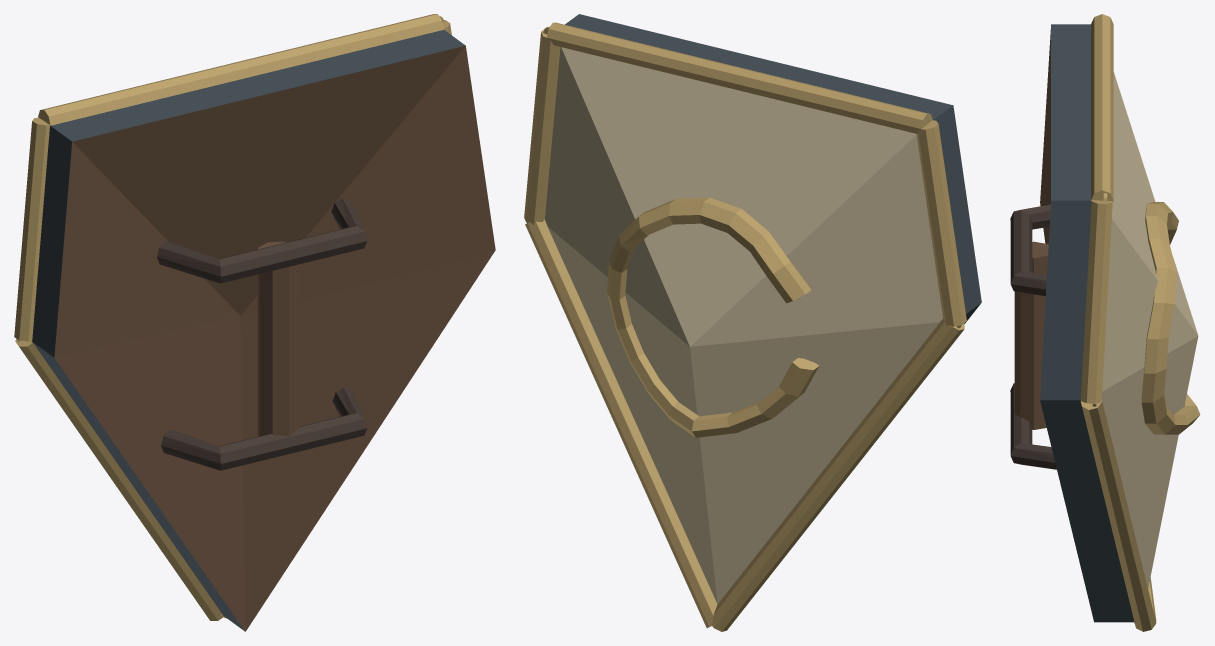
Rendered from AEW_Shield_BrokenHalo.fbx.
3 renders of one model, left to right at view 1: azimuth 30°, elevation 25°; view 2: azimuth 150°, elevation 25°; view 3: azimuth 270°, elevation 25°, orthographic. The views are drawn at different scales.
Parts seen in each view (by area): view 1: AEW_Shield_BrokenHalo; view 2: AEW_Shield_BrokenHalo; view 3: AEW_Shield_BrokenHalo.
Part boxes in pixels (x1=…): AEW_Shield_BrokenHalo: x1=14, y1=14, x2=495, y2=631; AEW_Shield_BrokenHalo: x1=524, y1=14, x2=981, y2=631; AEW_Shield_BrokenHalo: x1=1010, y1=14, x2=1200, y2=631.
Size of the model in its own units: 0.7733 by 0.9181 by 0.3006.
